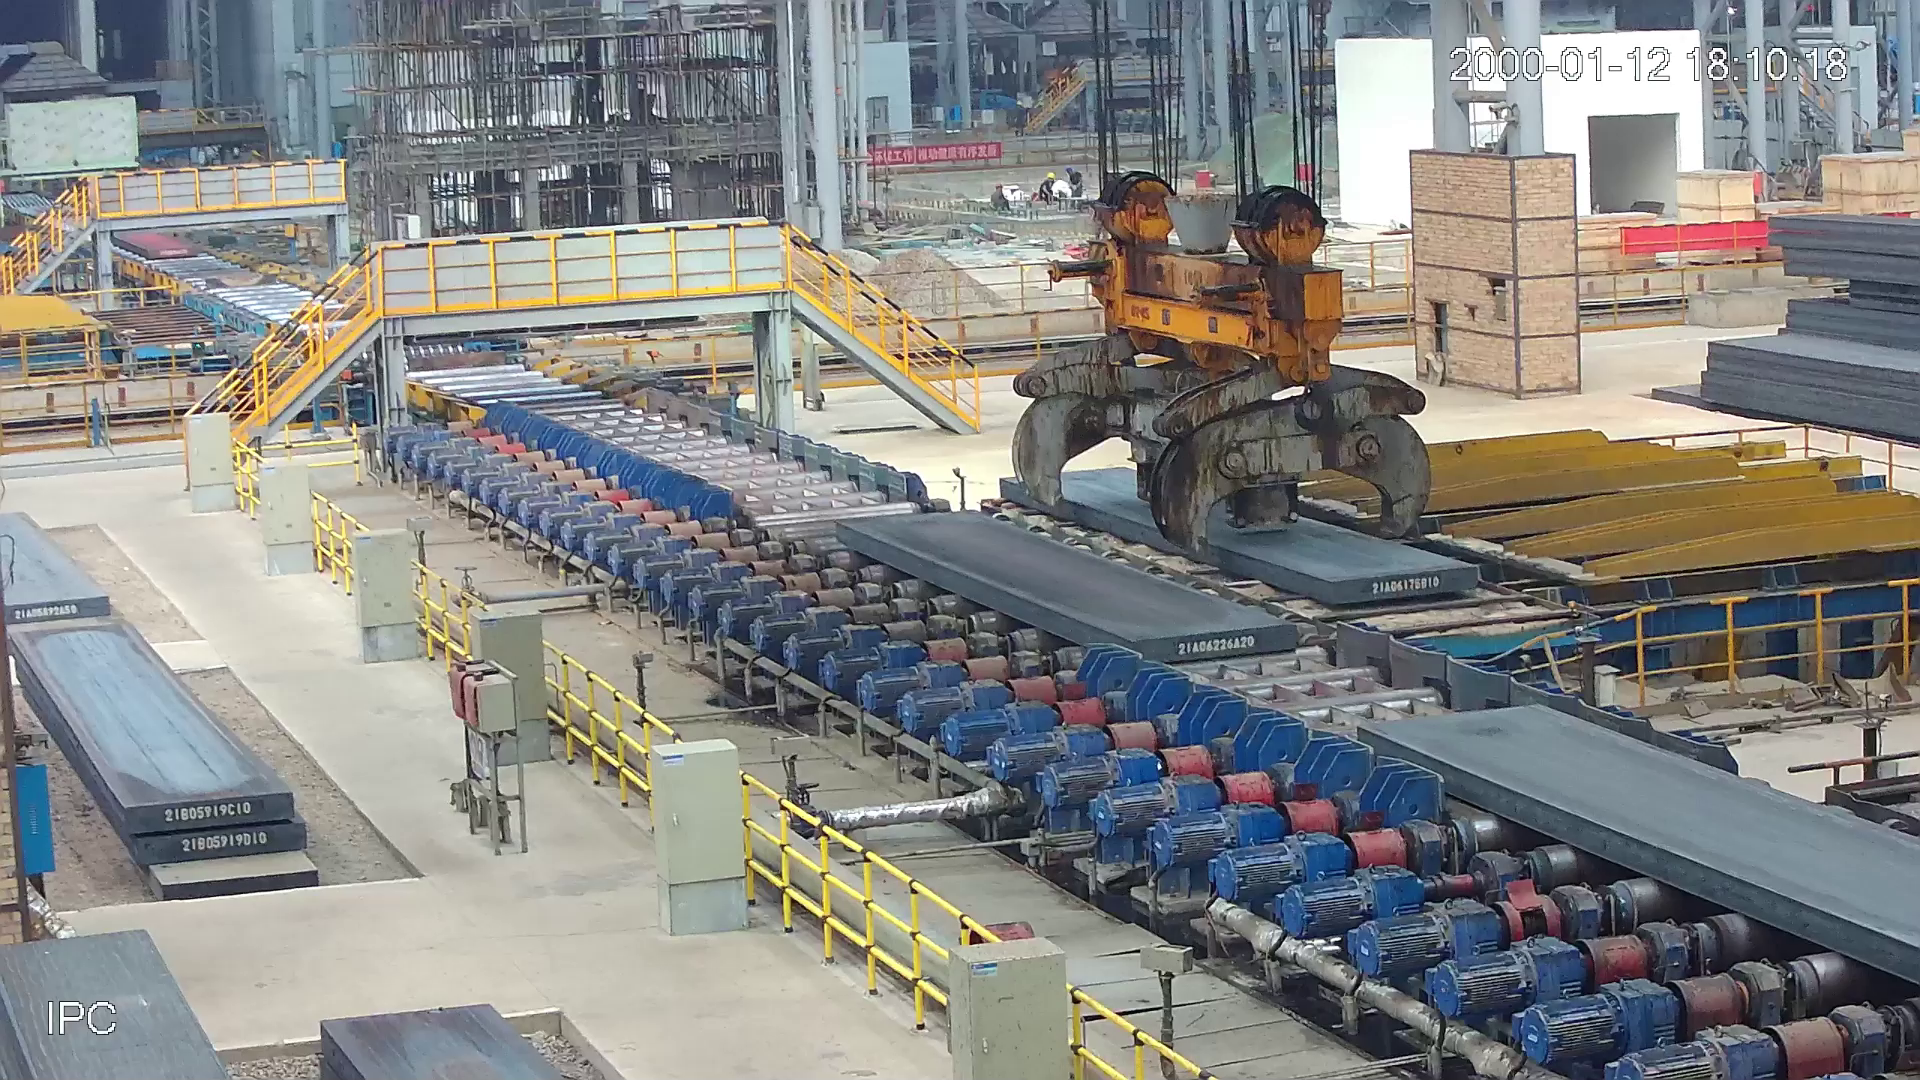craneandslab: (975, 162, 1495, 607)
slab: (1338, 694, 1919, 992), (825, 510, 1305, 674), (112, 225, 200, 260)
